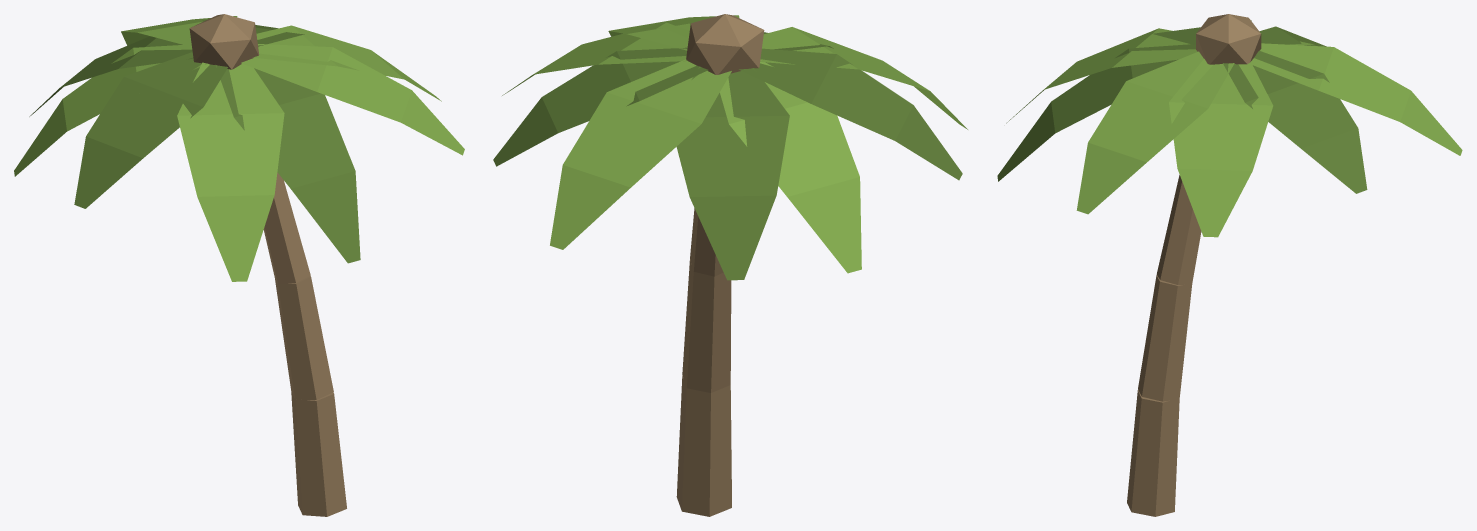
File: palm-v2-autumn.glb
The picture shows the model from 3 angles, left to right: view 1: azimuth 30°, elevation 25°; view 2: azimuth 150°, elevation 25°; view 3: azimuth 270°, elevation 25°; orthographic projection. The views are drawn at different scales.
Visible parts, largest first — view 1: palm_v2; view 2: palm_v2; view 3: palm_v2.
Part boxes in pixels (box(x1,y1,x2,y2)): palm_v2: box(14, 14, 464, 516); palm_v2: box(493, 14, 967, 516); palm_v2: box(997, 14, 1462, 516).
Size of what is drawn, in the model's own units: 4.75 by 5.66 by 5.1.
